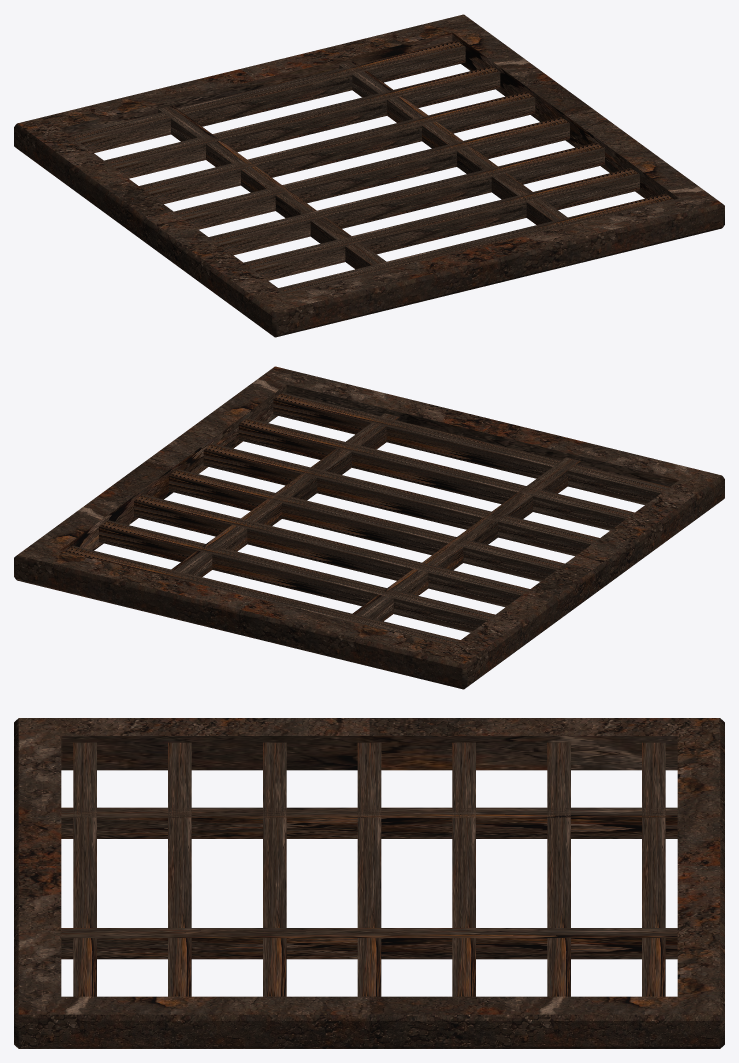
The model's file is iron-grate-v01-photo.glb.
3 views of the same model, one above another, from view 1: azimuth 30°, elevation 25°; view 2: azimuth 150°, elevation 25°; view 3: azimuth 270°, elevation 25° (orthographic). The views are drawn at different scales.
Parts seen in each view (by area): view 1: iron-grate; view 2: iron-grate; view 3: iron-grate.
Part boxes in pixels (bbox=[...]): iron-grate: bbox=[14, 14, 724, 337]; iron-grate: bbox=[14, 366, 724, 689]; iron-grate: bbox=[14, 718, 724, 1048].
Bounding box in the file's own units: 1.5 × 0.08 × 1.5.
1 material, 1 textured.
